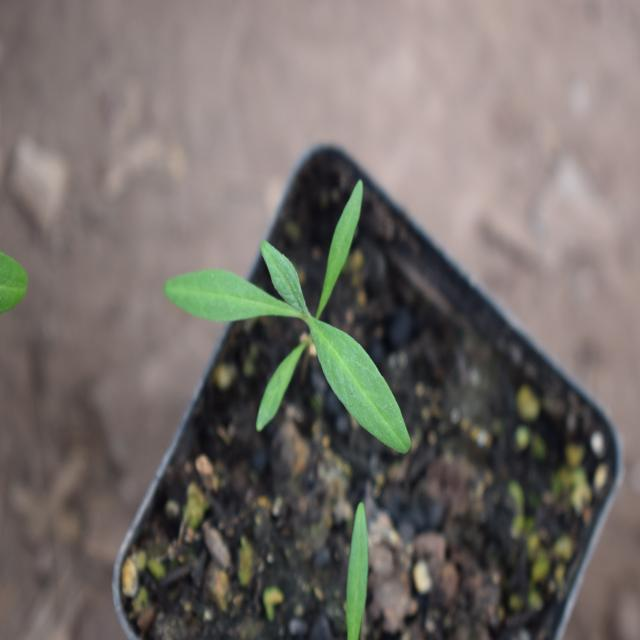white_smart_weed: (143, 192, 434, 460)
